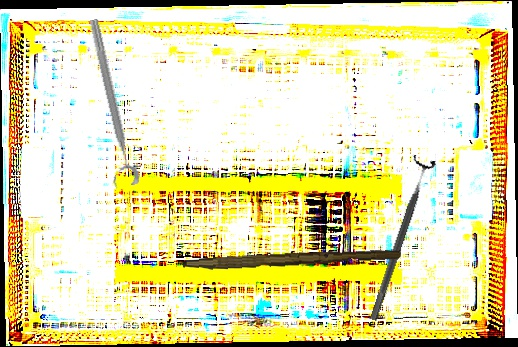Fixation Ring: (360, 154, 438, 324), (74, 17, 142, 190)
Scalpel Handle: (182, 244, 402, 276)
